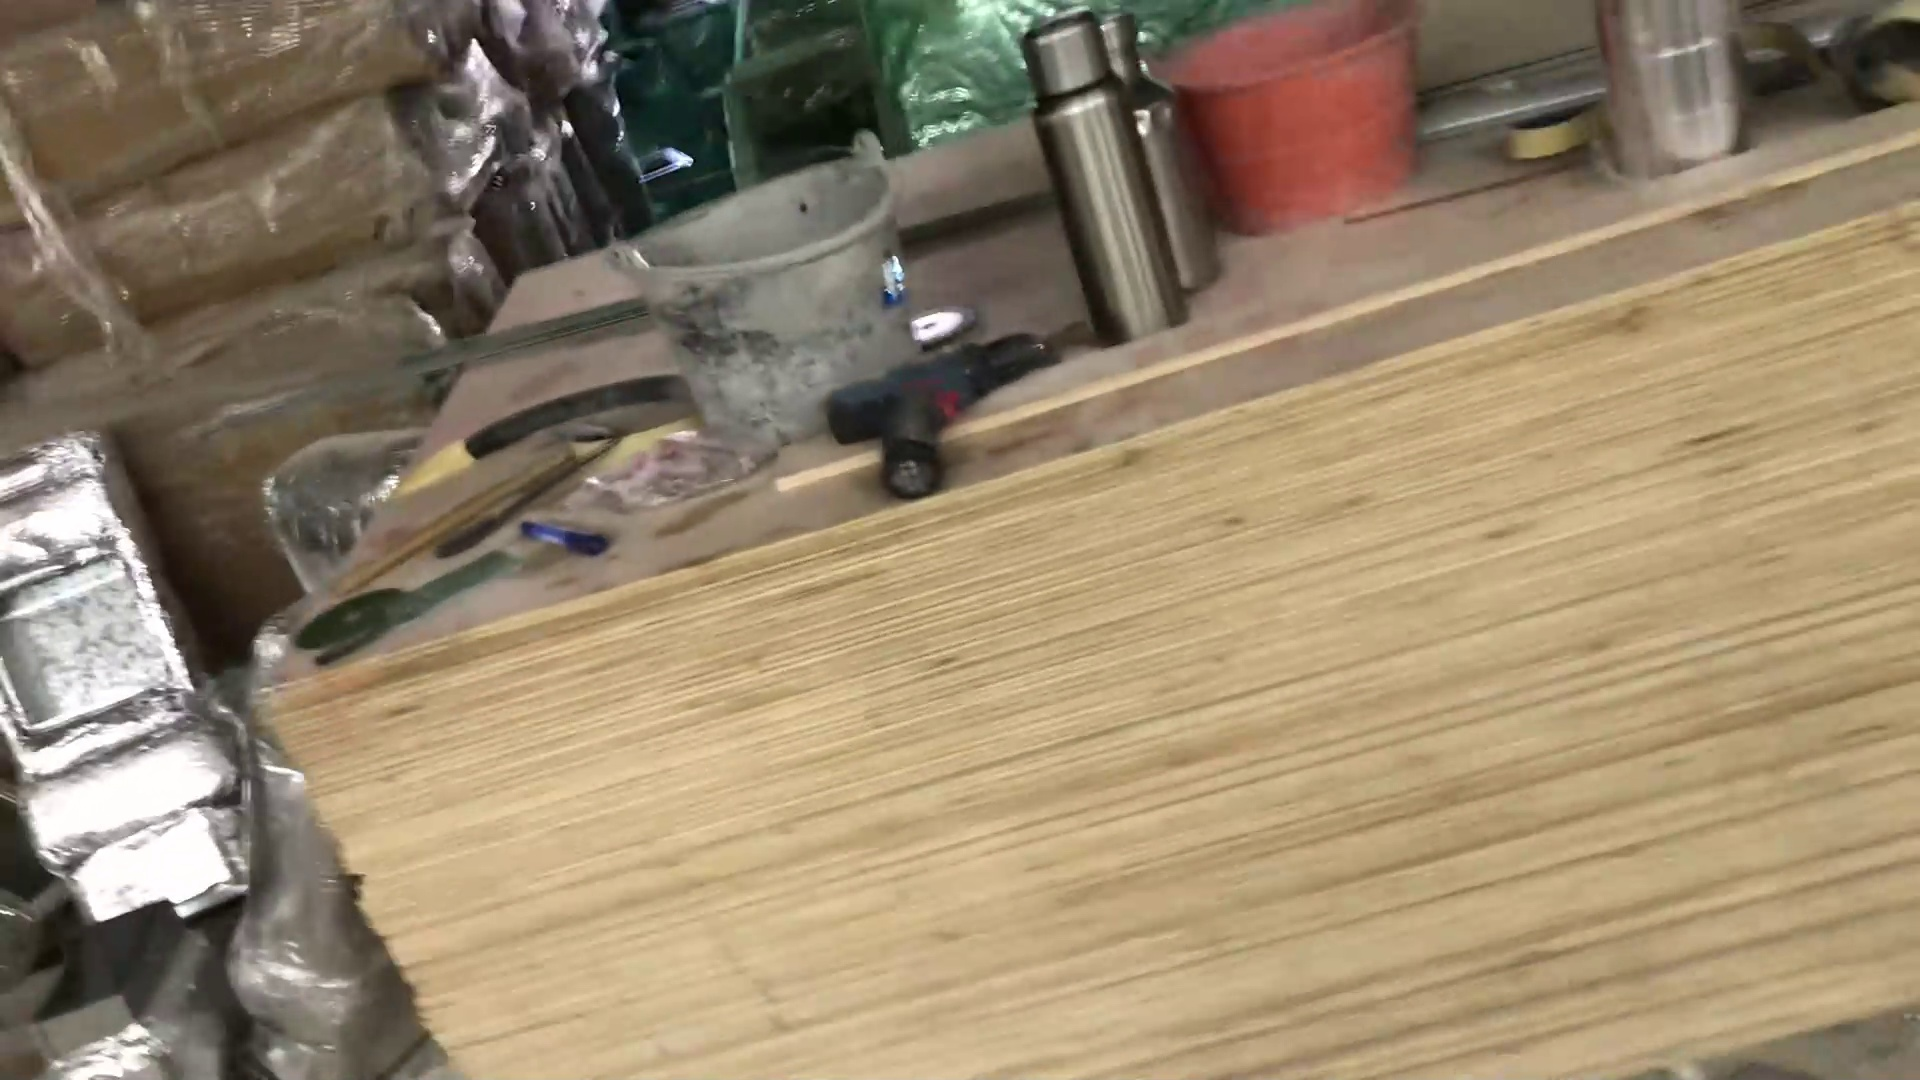board: (276, 45, 1916, 1080)
